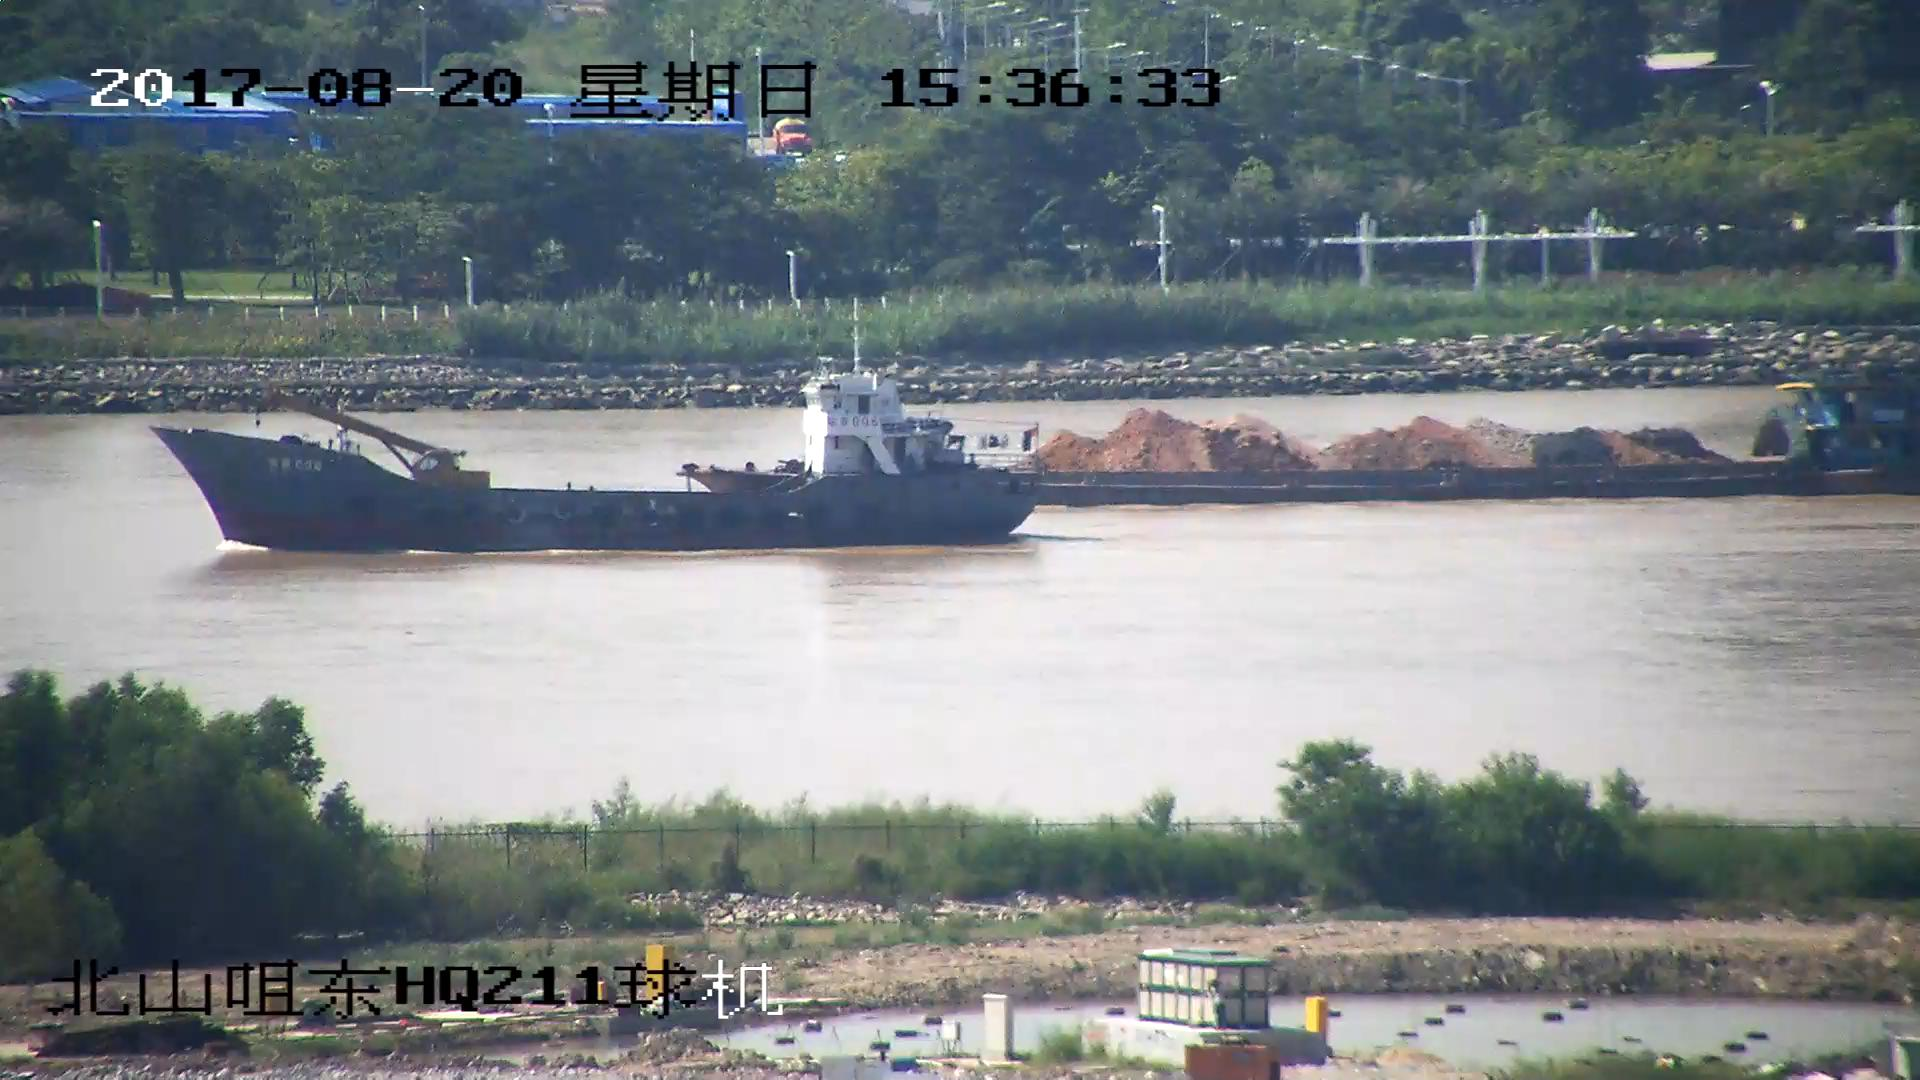general cargo ship: (150, 310, 1036, 558)
ore carrier: (678, 363, 1920, 501)
